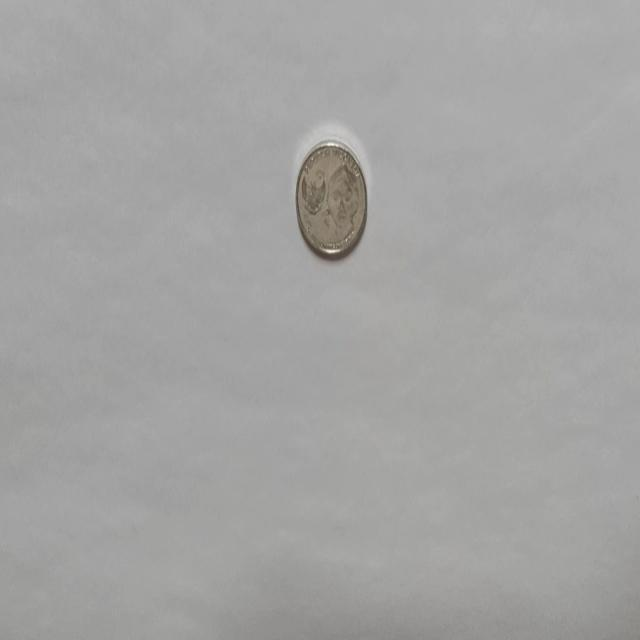dua ratus rupiah: (294, 138, 368, 258)
